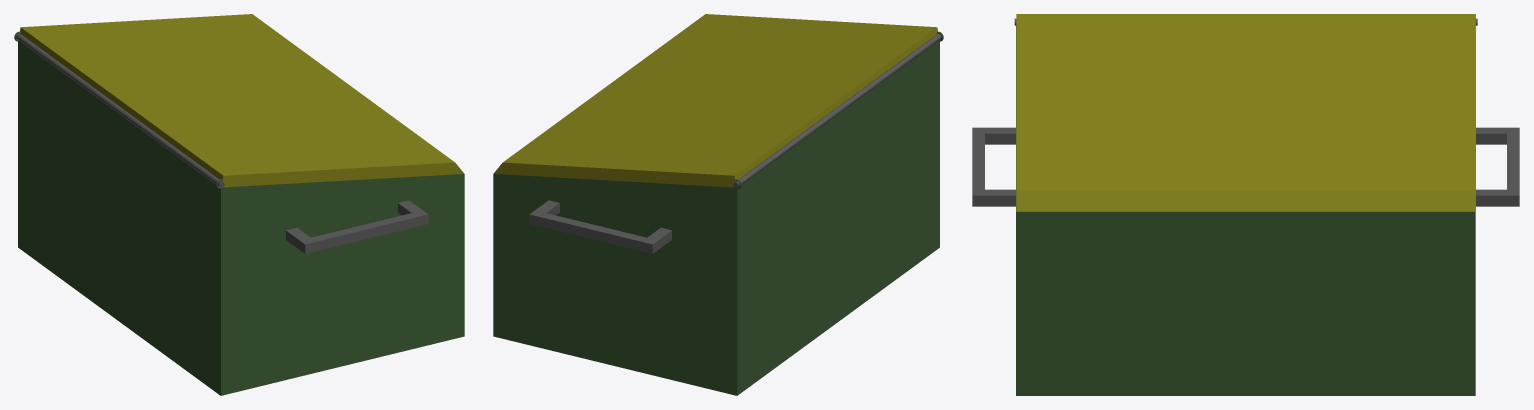
Rendered from containertrash.fbx.
The picture shows the model from 3 angles, left to right: view 1: azimuth 30°, elevation 25°; view 2: azimuth 150°, elevation 25°; view 3: azimuth 270°, elevation 25°; orthographic projection. The views are drawn at different scales.
Parts seen in each view (by area): view 1: Torus_001, Cube_001; view 2: Torus_001, Cube_001; view 3: Cube_001, Torus_001.
Boxes of the visible parts, bbox=[...] form: Torus_001: bbox=[14, 31, 464, 395]; Cube_001: bbox=[20, 14, 464, 187]; Torus_001: bbox=[493, 31, 943, 395]; Cube_001: bbox=[493, 14, 937, 187]; Cube_001: bbox=[1016, 14, 1475, 211]; Torus_001: bbox=[972, 18, 1519, 395].
Size of the model in its own units: 2.12 by 1.79 by 3.57.
